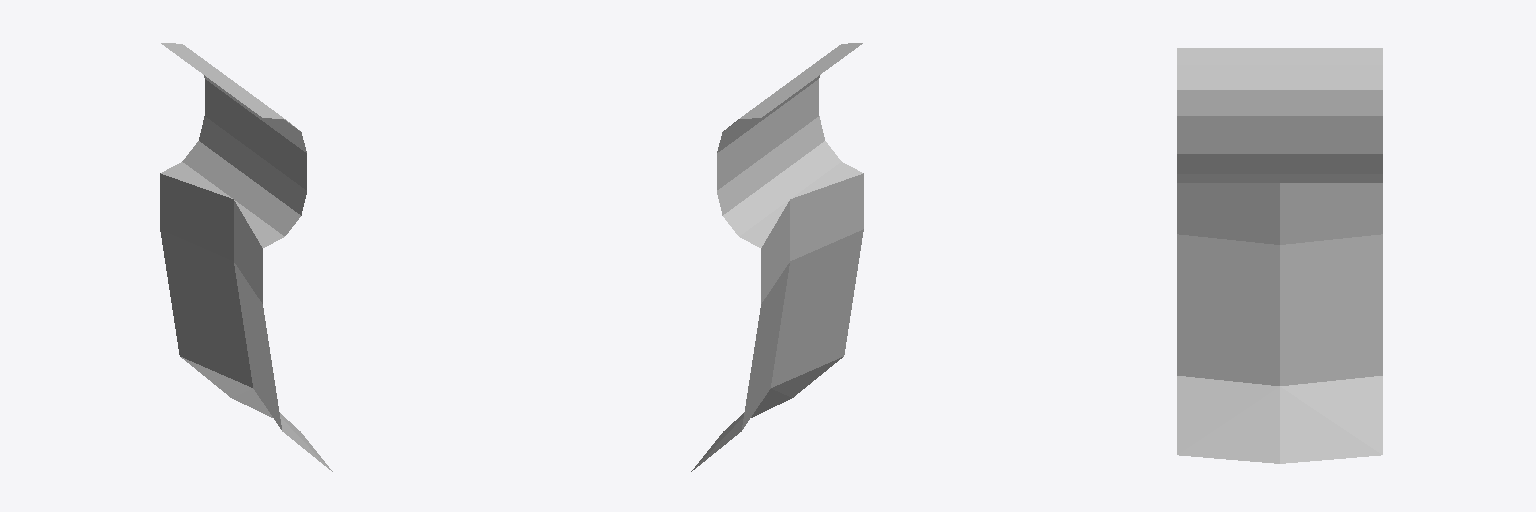
Rendered from Terrain_Cliff_2_Tall_Side.obj.
The picture shows the model from 3 angles: view 1: azimuth 30°, elevation 25°; view 2: azimuth 150°, elevation 25°; view 3: azimuth 270°, elevation 25°; orthographic projection.
Visible parts, largest first — view 1: Rock, Grass; view 2: Rock, Grass; view 3: Rock, Grass.
Boxes of the visible parts, <box> form: Rock: <box>160,173,332,471</box>; Grass: <box>161,43,306,247</box>; Rock: <box>691,173,863,471</box>; Grass: <box>717,43,862,247</box>; Rock: <box>1177,183,1382,463</box>; Grass: <box>1177,48,1382,182</box>.
Bounding box in the file's own units: 0.5 × 2 × 1.